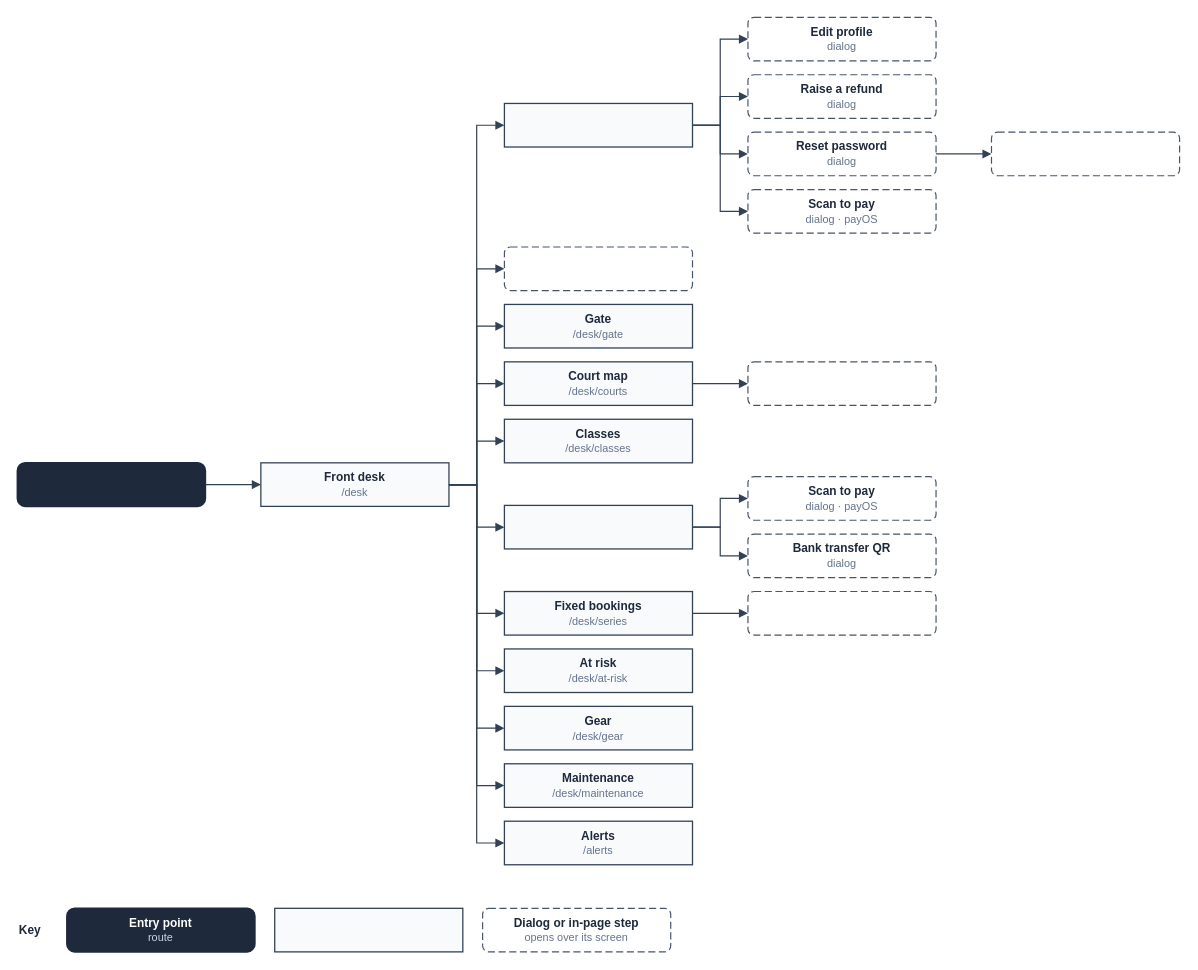
This 1198x970 diagram has some shape labels left out. Here are the shapes that lost their labels. From the top down, the centre of each, then its label:
At point 598,124: "Member profile /desk/member/$id".
At point 1085,153: "Hand this over now dialog".
At point 598,268: "Close shift dialog".
At point 841,383: "Walk-in payment in-page step".
At point 111,484: "Sign in /login".
At point 598,526: "Payments /desk/payments".
At point 841,612: "Stop this fixed booking? dialog".
At point 368,929: "Screen route".
